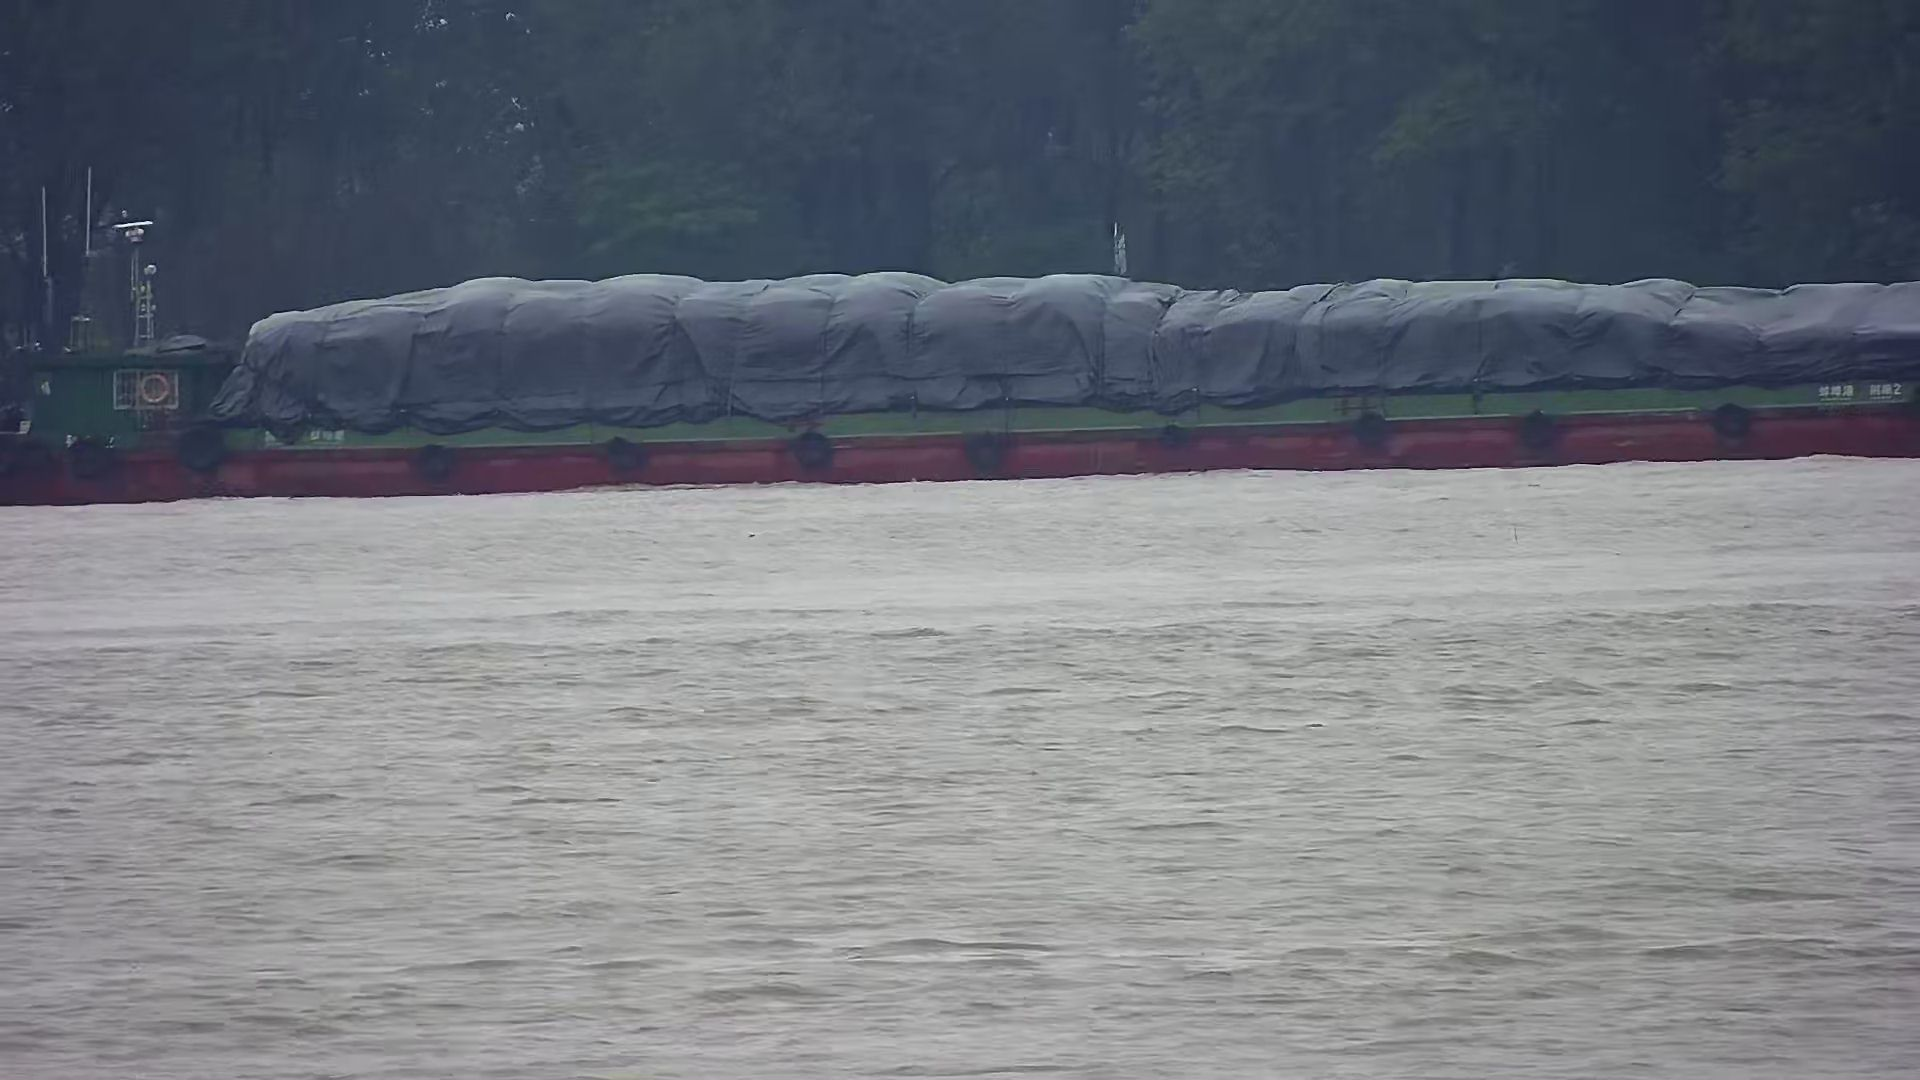ship: (1, 219, 1919, 508)
